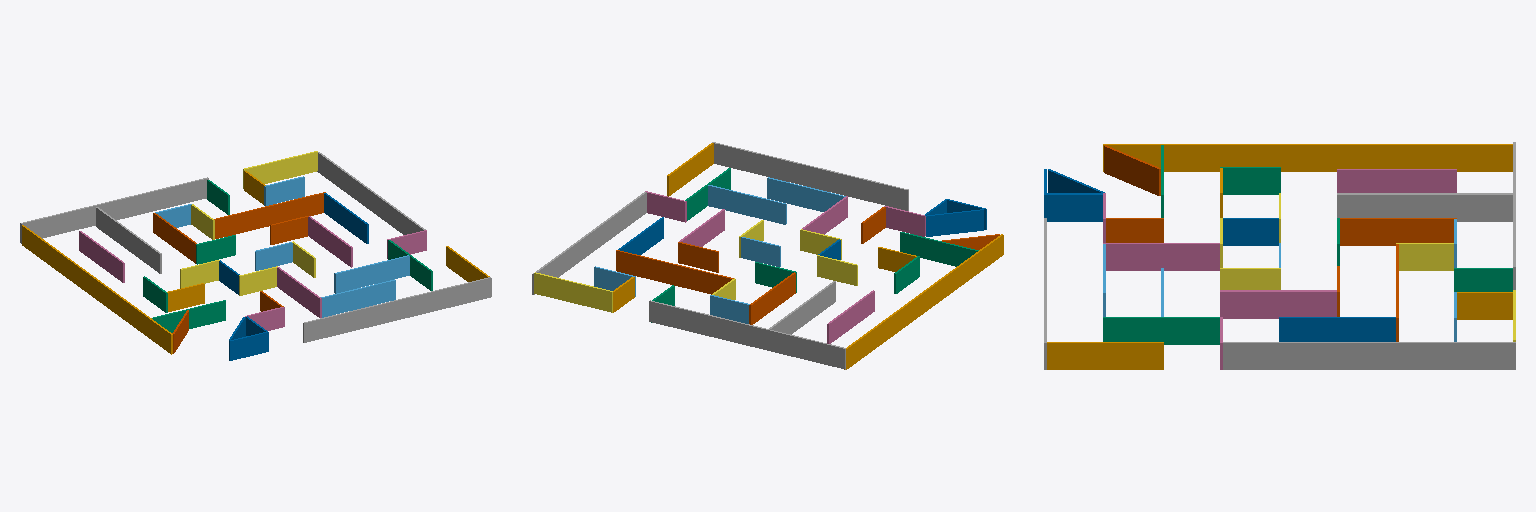
--- Facts derived from the render (not from the file) ---
Views: 3 orthographic renders of the robot side by side, from view 1: azimuth 30°, elevation 25°; view 2: azimuth 150°, elevation 25°; view 3: azimuth 270°, elevation 25°.
Model laberinto with 39 links and 38 joints (38 fixed), rooted at base_link, posed all joints at 0.
Links seen in each view (by area): view 1: L5_C_v11, L5_C_v1_11, L7_B_v11, L3_B_v11, L5_B_v11, L2_B_v1_21, L2_B_v1_41, L3_B_v1_11, L2_B_v1_31, L2_B_v1_71, L2_C_v11, L2_B_v1_51 (+17 smaller); view 2: L5_C_v1_11, L5_C_v11, L7_B_v11, L3_B_v11, L5_B_v11, L2_B_v1_31, L2_B_v1_21, L2_B_v1_41, L2_B_v1_71, L3_B_v1_11, D1_v11, L2_C_v11 (+18 smaller); view 3: L7_B_v11, L5_B_v11, L3_B_v1_11, L2_B_v11, L2_B_v1_91, L2_B_v1_61, L2_B_v1_11, L2_B_v1_81, L2_B_v1_51, L2_C_v11, L1_B_v1_71, D1_v1_11 (+8 smaller).
Boxes of the visible links, x1,y1,x2,y2 form: L5_C_v11: (303,277,491,342); L5_C_v1_11: (20,177,208,243); L7_B_v11: (22,225,172,354); L3_B_v11: (214,192,325,238); L5_B_v11: (317,152,425,234); L2_B_v1_21: (334,255,409,293); L2_B_v1_41: (321,279,395,317); L3_B_v1_11: (96,207,161,273); L2_B_v1_31: (243,151,317,188); L2_B_v1_71: (152,300,225,332); L2_C_v11: (79,231,124,282); L2_B_v1_51: (324,193,368,243); L5_C_v1_11: (649,300,845,369); L5_C_v11: (712,142,908,210); L7_B_v11: (844,234,1003,369); L3_B_v11: (616,250,733,294); L5_B_v11: (532,192,646,294); L2_B_v1_31: (534,272,612,312); L2_B_v1_21: (708,185,786,224); L2_B_v1_41: (767,177,845,211); L2_B_v1_71: (900,232,978,266); L3_B_v1_11: (769,281,835,334); D1_v11: (926,209,983,236); L2_C_v11: (827,290,874,343); L7_B_v11: (1103,144,1512,171); L5_B_v11: (1223,342,1515,369); L3_B_v1_11: (1337,193,1512,221); L2_B_v11: (1047,342,1163,369); L2_B_v1_91: (1220,290,1336,318); L2_B_v1_61: (1103,243,1219,270); L2_B_v1_11: (1103,317,1219,344); L2_B_v1_81: (1340,218,1456,245); L2_B_v1_51: (1279,317,1395,341); L2_C_v11: (1337,169,1456,192); L1_B_v1_71: (1044,193,1102,221); D1_v1_11: (1104,145,1160,195).
Size in the robot's own frame: 2.38 by 2.38 by 0.16 metres.
38 mesh visuals loaded from 38 distinct referenced files (38 binary STL).

robot.urdf — laberinto:
<?xml version="1.0" ?>
<robot name="laberinto">

<material name="silver">
  <color rgba="0.700 0.700 0.700 1.000"/>
</material>

<link name="base_link">
  <inertial>
    <origin xyz="-1.187487153647223 -1.1884224135909947 0.007407262245652047" rpy="0 0 0"/>
    <mass value="41.33268002916512"/>
    <inertia ixx="20.35586013176618" iyy="20.364008264724923" izz="40.71830635493643" ixy="-0.013845567582329465" iyz="9.885026799605345e-05" ixz="-1.3766768260925488e-06"/>
  </inertial>
</link>

<link name="L2_B_v1_41">
  <inertial>
    <origin xyz="-5.551115123125783e-16 -0.00749999999999984 0.07499999999999993" rpy="0 0 0"/>
    <mass value="0.6372"/>
    <inertia ixx="0.0012066974999997981" iyy="0.019678860000000187" izz="0.018496057500000163" ixy="-2.220446049250313e-16" iyz="2.7755575615628914e-17" ixz="-6.938893903907228e-18"/>
  </inertial>
  <visual>
    <origin xyz="0.885 2.065 -0.005" rpy="0 0 0"/>
    <geometry>
      <mesh filename="meshes/L2_B_v1_41.stl" scale="0.001 0.001 0.001"/>
    </geometry>
    <material name="silver"/>
    <material/>
  </visual>
  <collision>
    <origin xyz="0.885 2.065 -0.005" rpy="0 0 0"/>
    <geometry>
      <mesh filename="meshes/L2_B_v1_41.stl" scale="0.001 0.001 0.001"/>
    </geometry>
  </collision>
</link>

<link name="L2_B_v1_71">
  <inertial>
    <origin xyz="4.440892098500626e-16 -0.007500000000000062 0.07499999999999986" rpy="0 0 0"/>
    <mass value="0.6372"/>
    <inertia ixx="0.0012066974999997981" iyy="0.019678860000001297" izz="0.01849605750000105" ixy="-4.440892098500626e-16" iyz="-1.3877787807814457e-17" ixz="4.163336342344337e-17"/>
  </inertial>
  <visual>
    <origin xyz="2.065 1.77 -0.005" rpy="0 0 0"/>
    <geometry>
      <mesh filename="meshes/L2_B_v1_71.stl" scale="0.001 0.001 0.001"/>
    </geometry>
    <material name="silver"/>
    <material/>
  </visual>
  <collision>
    <origin xyz="2.065 1.77 -0.005" rpy="0 0 0"/>
    <geometry>
      <mesh filename="meshes/L2_B_v1_71.stl" scale="0.001 0.001 0.001"/>
    </geometry>
  </collision>
</link>

<link name="L1_C_v11">
  <inertial>
    <origin xyz="-0.007499999999999951 0.0 0.075" rpy="0 0 0"/>
    <mass value="0.3347999999999999"/>
    <inertia ixx="0.003308940000000038" iyy="0.0006340275000000783" izz="0.0026874674999999293" ixy="-5.551115123125783e-17" iyz="0.0" ixz="-3.469446951953614e-18"/>
  </inertial>
  <visual>
    <origin xyz="0.885 1.335 -0.005" rpy="0 0 0"/>
    <geometry>
      <mesh filename="meshes/L1_C_v11.stl" scale="0.001 0.001 0.001"/>
    </geometry>
    <material name="silver"/>
    <material/>
  </visual>
  <collision>
    <origin xyz="0.885 1.335 -0.005" rpy="0 0 0"/>
    <geometry>
      <mesh filename="meshes/L1_C_v11.stl" scale="0.001 0.001 0.001"/>
    </geometry>
  </collision>
</link>

<link name="L1_B_v1_71">
  <inertial>
    <origin xyz="-0.007500000000000062 4.440892098500626e-16 0.075" rpy="0 0 0"/>
    <mass value="0.31859999999999994"/>
    <inertia ixx="0.002907888750000698" iyy="0.000603348749999677" izz="0.0023164875000007967" ixy="-4.440892098500626e-16" iyz="1.3877787807814457e-17" ixz="-6.938893903907228e-18"/>
  </inertial>
  <visual>
    <origin xyz="1.77 2.2275 -0.005" rpy="0 0 0"/>
    <geometry>
      <mesh filename="meshes/L1_B_v1_71.stl" scale="0.001 0.001 0.001"/>
    </geometry>
    <material name="silver"/>
    <material/>
  </visual>
  <collision>
    <origin xyz="1.77 2.2275 -0.005" rpy="0 0 0"/>
    <geometry>
      <mesh filename="meshes/L1_B_v1_71.stl" scale="0.001 0.001 0.001"/>
    </geometry>
  </collision>
</link>

<link name="L3_B_v11">
  <inertial>
    <origin xyz="0.0 -0.007500000000000062 0.07499999999999687" rpy="0 0 0"/>
    <mass value="0.9557999999999999"/>
    <inertia ixx="0.0018100462499999748" iyy="0.06417599624999981" izz="0.06240179250000033" ixy="5.551115123125783e-17" iyz="-6.938893903907228e-18" ixz="-2.0816681711721685e-17"/>
  </inertial>
  <visual>
    <origin xyz="0.7375 0.59 -0.005" rpy="0 0 0"/>
    <geometry>
      <mesh filename="meshes/L3_B_v11.stl" scale="0.001 0.001 0.001"/>
    </geometry>
    <material name="silver"/>
    <material/>
  </visual>
  <collision>
    <origin xyz="0.7375 0.59 -0.005" rpy="0 0 0"/>
    <geometry>
      <mesh filename="meshes/L3_B_v11.stl" scale="0.001 0.001 0.001"/>
    </geometry>
  </collision>
</link>

<link name="L2_C_v11">
  <inertial>
    <origin xyz="0.0 0.0 0.075" rpy="0 0 0"/>
    <mass value="0.6534"/>
    <inertia ixx="0.021155186249999985" iyy="0.0012373762500006436" izz="0.019942312500000448" ixy="0.0" iyz="0.0" ixz="1.3877787807814457e-17"/>
  </inertial>
  <visual>
    <origin xyz="2.0725 0.5975 -0.005" rpy="0 0 0"/>
    <geometry>
      <mesh filename="meshes/L2_C_v11.stl" scale="0.001 0.001 0.001"/>
    </geometry>
    <material name="silver"/>
    <material/>
  </visual>
  <collision>
    <origin xyz="2.0725 0.5975 -0.005" rpy="0 0 0"/>
    <geometry>
      <mesh filename="meshes/L2_C_v11.stl" scale="0.001 0.001 0.001"/>
    </geometry>
  </collision>
</link>

<link name="L5_C_v11">
  <inertial>
    <origin xyz="0.007499999999999951 1.3322676295501878e-15 0.07499999999999989" rpy="0 0 0"/>
    <mass value="1.6092"/>
    <inertia ixx="0.0030474224999998967" iyy="0.30073266000000565" izz="0.29774558250000105" ixy="0.0" iyz="0.0" ixz="0.0"/>
  </inertial>
  <visual>
    <origin xyz="0.7525 2.3675 -0.005" rpy="0 0 0"/>
    <geometry>
      <mesh filename="meshes/L5_C_v11.stl" scale="0.001 0.001 0.001"/>
    </geometry>
    <material name="silver"/>
    <material/>
  </visual>
  <collision>
    <origin xyz="0.7525 2.3675 -0.005" rpy="0 0 0"/>
    <geometry>
      <mesh filename="meshes/L5_C_v11.stl" scale="0.001 0.001 0.001"/>
    </geometry>
  </collision>
</link>

<link name="L2_B_v11">
  <inertial>
    <origin xyz="-1.1709383462843448e-16 0.007500000000000284 0.075" rpy="0 0 0"/>
    <mass value="0.6372"/>
    <inertia ixx="0.019678860000001297" iyy="0.001206697499999996" izz="0.01849605750000105" ixy="2.5153490401663703e-16" iyz="1.3877787807814457e-17" ixz="1.0842021724855044e-19"/>
  </inertial>
  <visual>
    <origin xyz="0.0075 2.0725 -0.005" rpy="0 0 0"/>
    <geometry>
      <mesh filename="meshes/L2_B_v11.stl" scale="0.001 0.001 0.001"/>
    </geometry>
    <material name="silver"/>
    <material/>
  </visual>
  <collision>
    <origin xyz="0.0075 2.0725 -0.005" rpy="0 0 0"/>
    <geometry>
      <mesh filename="meshes/L2_B_v11.stl" scale="0.001 0.001 0.001"/>
    </geometry>
  </collision>
</link>

<link name="L2_B_v1_21">
  <inertial>
    <origin xyz="-1.7763568394002505e-15 0.0 0.07499999999999986" rpy="0 0 0"/>
    <mass value="0.6372"/>
    <inertia ixx="0.0012066974999997981" iyy="0.01967886000000016" izz="0.01849605749999972" ixy="1.1102230246251565e-16" iyz="-1.3877787807814457e-17" ixz="1.0408340855860843e-17"/>
  </inertial>
  <visual>
    <origin xyz="0.605 1.7775 -0.005" rpy="0 0 0"/>
    <geometry>
      <mesh filename="meshes/L2_B_v1_21.stl" scale="0.001 0.001 0.001"/>
    </geometry>
    <material name="silver"/>
    <material/>
  </visual>
  <collision>
    <origin xyz="0.605 1.7775 -0.005" rpy="0 0 0"/>
    <geometry>
      <mesh filename="meshes/L2_B_v1_21.stl" scale="0.001 0.001 0.001"/>
    </geometry>
  </collision>
</link>

<link name="L2_B_v1_11">
  <inertial>
    <origin xyz="-5.551115123125783e-17 -0.01399999999999979 0.075" rpy="0 0 0"/>
    <mass value="0.6372"/>
    <inertia ixx="0.01967885999999952" iyy="0.0012066974999999786" izz="0.018496057499999274" ixy="1.1102230246251565e-16" iyz="-1.3877787807814457e-17" ixz="0.0"/>
  </inertial>
  <visual>
    <origin xyz="0.3025 1.77 -0.005" rpy="0 0 0"/>
    <geometry>
      <mesh filename="meshes/L2_B_v1_11.stl" scale="0.001 0.001 0.001"/>
    </geometry>
    <material name="silver"/>
    <material/>
  </visual>
  <collision>
    <origin xyz="0.3025 1.77 -0.005" rpy="0 0 0"/>
    <geometry>
      <mesh filename="meshes/L2_B_v1_11.stl" scale="0.001 0.001 0.001"/>
    </geometry>
  </collision>
</link>

<link name="L2_B_v1_31">
  <inertial>
    <origin xyz="-0.007500000000000007 0.0 0.075" rpy="0 0 0"/>
    <mass value="0.6372"/>
    <inertia ixx="0.0012066975000000002" iyy="0.019678859999999992" izz="0.018496057500000003" ixy="0.0" iyz="5.421010862427522e-20" ixz="3.469446951953614e-18"/>
  </inertial>
  <visual>
    <origin xyz="0.3025 0.0075 -0.015" rpy="0 0 0"/>
    <geometry>
      <mesh filename="meshes/L2_B_v1_31.stl" scale="0.001 0.001 0.001"/>
    </geometry>
    <material name="silver"/>
    <material/>
  </visual>
  <collision>
    <origin xyz="0.3025 0.0075 -0.015" rpy="0 0 0"/>
    <geometry>
      <mesh filename="meshes/L2_B_v1_31.stl" scale="0.001 0.001 0.001"/>
    </geometry>
  </collision>
</link>

<link name="L2_B_v1_51">
  <inertial>
    <origin xyz="-5.551115123125783e-17 -0.007500000000000062 0.075" rpy="0 0 0"/>
    <mass value="0.6372"/>
    <inertia ixx="0.019678859999999965" iyy="0.0012066974999999924" izz="0.01849605749999994" ixy="5.551115123125783e-17" iyz="-6.938893903907228e-18" ixz="-3.469446951953614e-18"/>
  </inertial>
  <visual>
    <origin xyz="0.3025 0.8925 -0.005" rpy="0 0 0"/>
    <geometry>
      <mesh filename="meshes/L2_B_v1_51.stl" scale="0.001 0.001 0.001"/>
    </geometry>
    <material name="silver"/>
    <material/>
  </visual>
  <collision>
    <origin xyz="0.3025 0.8925 -0.005" rpy="0 0 0"/>
    <geometry>
      <mesh filename="meshes/L2_B_v1_51.stl" scale="0.001 0.001 0.001"/>
    </geometry>
  </collision>
</link>

<link name="L2_B_v1_81">
  <inertial>
    <origin xyz="0.0 0.007500000000000062 0.075" rpy="0 0 0"/>
    <mass value="0.6372"/>
    <inertia ixx="0.019678859999999965" iyy="0.0012066975000000202" izz="0.018496057500000163" ixy="-1.1102230246251565e-16" iyz="-6.938893903907228e-18" ixz="0.0"/>
  </inertial>
  <visual>
    <origin xyz="1.4825 0.5975 -0.005" rpy="0 0 0"/>
    <geometry>
      <mesh filename="meshes/L2_B_v1_81.stl" scale="0.001 0.001 0.001"/>
    </geometry>
    <material name="silver"/>
    <material/>
  </visual>
  <collision>
    <origin xyz="1.4825 0.5975 -0.005" rpy="0 0 0"/>
    <geometry>
      <mesh filename="meshes/L2_B_v1_81.stl" scale="0.001 0.001 0.001"/>
    </geometry>
  </collision>
</link>

<link name="L2_B_v1_91">
  <inertial>
    <origin xyz="0.0 0.0 0.08499999999999999" rpy="0 0 0"/>
    <mass value="0.6372"/>
    <inertia ixx="0.019678859999999965" iyy="0.0012066974999999924" izz="0.01849605749999994" ixy="-5.551115123125783e-17" iyz="0.0" ixz="0.0"/>
  </inertial>
  <visual>
    <origin xyz="0.5975 1.195 -0.005" rpy="0 0 0"/>
    <geometry>
      <mesh filename="meshes/L2_B_v1_91.stl" scale="0.001 0.001 0.001"/>
    </geometry>
    <material name="silver"/>
    <material/>
  </visual>
  <collision>
    <origin xyz="0.5975 1.195 -0.005" rpy="0 0 0"/>
    <geometry>
      <mesh filename="meshes/L2_B_v1_91.stl" scale="0.001 0.001 0.001"/>
    </geometry>
  </collision>
</link>

<link name="L5_C_v1_11">
  <inertial>
    <origin xyz="0.0 -1.734723475976807e-18 0.075" rpy="0 0 0"/>
    <mass value="1.6092"/>
    <inertia ixx="0.003047422499999999" iyy="0.30073266000000043" izz="0.29774558250000016" ixy="-3.469446951953614e-18" iyz="-4.336808689942018e-19" ixz="-2.7755575615628914e-17"/>
  </inertial>
  <visual>
    <origin xyz="1.63 0.0075 -0.015" rpy="0 0 0"/>
    <geometry>
      <mesh filename="meshes/L5_C_v1_11.stl" scale="0.001 0.001 0.001"/>
    </geometry>
    <material name="silver"/>
    <material/>
  </visual>
  <collision>
    <origin xyz="1.63 0.0075 -0.015" rpy="0 0 0"/>
    <geometry>
      <mesh filename="meshes/L5_C_v1_11.stl" scale="0.001 0.001 0.001"/>
    </geometry>
  </collision>
</link>

<link name="L1_B_v1_41">
  <inertial>
    <origin xyz="0.0 0.0 0.07500000000000029" rpy="0 0 0"/>
    <mass value="0.31859999999999994"/>
    <inertia ixx="0.0006033487500000101" iyy="0.0029078887499998096" izz="0.0023164875000001306" ixy="1.1102230246251565e-16" iyz="0.0" ixz="0.0"/>
  </inertial>
  <visual>
    <origin xyz="1.9175 1.4825 -0.015" rpy="0 0 0"/>
    <geometry>
      <mesh filename="meshes/L1_B_v1_41.stl" scale="0.001 0.001 0.001"/>
    </geometry>
    <material name="silver"/>
    <material/>
  </visual>
  <collision>
    <origin xyz="1.9175 1.4825 -0.015" rpy="0 0 0"/>
    <geometry>
      <mesh filename="meshes/L1_B_v1_41.stl" scale="0.001 0.001 0.001"/>
    </geometry>
  </collision>
</link>

<link name="L1_B_v11">
  <inertial>
    <origin xyz="0.0 0.0 0.07500000000000055" rpy="0 0 0"/>
    <mass value="0.31859999999999994"/>
    <inertia ixx="0.0006033487499998991" iyy="0.002907888749999865" izz="0.0023164875000000196" ixy="1.1102230246251565e-16" iyz="0.0" ixz="-3.469446951953614e-18"/>
  </inertial>
  <visual>
    <origin xyz="1.0475 1.1875 -0.005" rpy="0 0 0"/>
    <geometry>
      <mesh filename="meshes/L1_B_v11.stl" scale="0.001 0.001 0.001"/>
    </geometry>
    <material name="silver"/>
    <material/>
  </visual>
  <collision>
    <origin xyz="1.0475 1.1875 -0.005" rpy="0 0 0"/>
    <geometry>
      <mesh filename="meshes/L1_B_v11.stl" scale="0.001 0.001 0.001"/>
    </geometry>
  </collision>
</link>

<link name="L1_C_v1_11">
  <inertial>
    <origin xyz="0.0 0.0 0.075" rpy="0 0 0"/>
    <mass value="0.3347999999999999"/>
    <inertia ixx="0.003308940000000038" iyy="0.0006340275000003004" izz="0.0026874674999999293" ixy="-2.220446049250313e-16" iyz="6.938893903907228e-18" ixz="1.3877787807814457e-17"/>
  </inertial>
  <visual>
    <origin xyz="2.0725 1.335 -0.015" rpy="0 0 0"/>
    <geometry>
      <mesh filename="meshes/L1_C_v1_11.stl" scale="0.001 0.001 0.001"/>
    </geometry>
    <material name="silver"/>
    <material/>
  </visual>
  <collision>
    <origin xyz="2.0725 1.335 -0.015" rpy="0 0 0"/>
    <geometry>
      <mesh filename="meshes/L1_C_v1_11.stl" scale="0.001 0.001 0.001"/>
    </geometry>
  </collision>
</link>

<link name="L1_C_v1_31">
  <inertial>
    <origin xyz="0.007500000000000062 0.0 0.07500000000000007" rpy="0 0 0"/>
    <mass value="0.3347999999999999"/>
    <inertia ixx="0.0006340274999999673" iyy="0.003308940000000038" izz="0.0026874675000001513" ixy="-1.1102230246251565e-16" iyz="6.938893903907228e-18" ixz="0.0"/>
  </inertial>
  <visual>
    <origin xyz="1.3425 1.4825 -0.005" rpy="0 0 0"/>
    <geometry>
      <mesh filename="meshes/L1_C_v1_31.stl" scale="0.001 0.001 0.001"/>
    </geometry>
    <material name="silver"/>
    <material/>
  </visual>
  <collision>
    <origin xyz="1.3425 1.4825 -0.005" rpy="0 0 0"/>
    <geometry>
      <mesh filename="meshes/L1_C_v1_31.stl" scale="0.001 0.001 0.001"/>
    </geometry>
  </collision>
</link>

<link name="L1_A_v1_11">
  <inertial>
    <origin xyz="0.0 -0.007500000000000062 0.075" rpy="0 0 0"/>
    <mass value="0.30239999999999995"/>
    <inertia ixx="0.0025426800000000194" iyy="0.0005726699999999418" izz="0.001981350000000326" ixy="-1.1102230246251565e-16" iyz="-6.938893903907228e-18" ixz="-6.938893903907228e-18"/>
  </inertial>
  <visual>
    <origin xyz="1.4825 1.3275 -0.005" rpy="0 0 0"/>
    <geometry>
      <mesh filename="meshes/L1_A_v1_11.stl" scale="0.001 0.001 0.001"/>
    </geometry>
    <material name="silver"/>
    <material/>
  </visual>
  <collision>
    <origin xyz="1.4825 1.3275 -0.005" rpy="0 0 0"/>
    <geometry>
      <mesh filename="meshes/L1_A_v1_11.stl" scale="0.001 0.001 0.001"/>
    </geometry>
  </collision>
</link>

<link name="L1_C_v1_21">
  <inertial>
    <origin xyz="0.0 0.0 0.07499999999999997" rpy="0 0 0"/>
    <mass value="0.3347999999999999"/>
    <inertia ixx="0.0006340275000000783" iyy="0.0033089399999999825" izz="0.0026874675000000403" ixy="0.0" iyz="-3.469446951953614e-18" ixz="0.0"/>
  </inertial>
  <visual>
    <origin xyz="0.745 0.8925 -0.015" rpy="0 0 0"/>
    <geometry>
      <mesh filename="meshes/L1_C_v1_21.stl" scale="0.001 0.001 0.001"/>
    </geometry>
    <material name="silver"/>
    <material/>
  </visual>
  <collision>
    <origin xyz="0.745 0.8925 -0.015" rpy="0 0 0"/>
    <geometry>
      <mesh filename="meshes/L1_C_v1_21.stl" scale="0.001 0.001 0.001"/>
    </geometry>
  </collision>
</link>

<link name="L1_C_v1_41">
  <inertial>
    <origin xyz="0.007499999999999979 0.0 0.07500000000000007" rpy="0 0 0"/>
    <mass value="0.3347999999999999"/>
    <inertia ixx="0.0006340274999999673" iyy="0.00330894000000001" izz="0.0026874675000001513" ixy="0.0" iyz="0.0" ixz="0.0"/>
  </inertial>
  <visual>
    <origin xyz="0.1625 1.4825 -0.005" rpy="0 0 0"/>
    <geometry>
      <mesh filename="meshes/L1_C_v1_41.stl" scale="0.001 0.001 0.001"/>
    </geometry>
    <material name="silver"/>
    <material/>
  </visual>
  <collision>
    <origin xyz="0.1625 1.4825 -0.005" rpy="0 0 0"/>
    <geometry>
      <mesh filename="meshes/L1_C_v1_41.stl" scale="0.001 0.001 0.001"/>
    </geometry>
  </collision>
</link>

<link name="L5_B_v11">
  <inertial>
    <origin xyz="1.734723475976807e-18 0.007499999999999951 0.075" rpy="0 0 0"/>
    <mass value="1.5929999999999997"/>
    <inertia ixx="0.29180109374999974" iyy="0.0030167437499999984" izz="0.2888440874999999" ixy="1.734723475976807e-18" iyz="-1.3877787807814457e-17" ixz="-1.0842021724855044e-19"/>
  </inertial>
  <visual>
    <origin xyz="0.0075 0.745 -0.005" rpy="0 0 0"/>
    <geometry>
      <mesh filename="meshes/L5_B_v11.stl" scale="0.001 0.001 0.001"/>
    </geometry>
    <material name="silver"/>
    <material/>
  </visual>
  <collision>
    <origin xyz="0.0075 0.745 -0.005" rpy="0 0 0"/>
    <geometry>
      <mesh filename="meshes/L5_B_v11.stl" scale="0.001 0.001 0.001"/>
    </geometry>
  </collision>
</link>

<link name="L1_A_v11">
  <inertial>
    <origin xyz="0.0 0.0 0.075" rpy="0 0 0"/>
    <mass value="0.30239999999999995"/>
    <inertia ixx="0.0025426799999999933" iyy="0.0005726699999999973" izz="0.0019813500000000067" ixy="0.0" iyz="8.673617379884035e-19" ixz="0.0"/>
  </inertial>
  <visual>
    <origin xyz="0.5975 0.155 -0.005" rpy="0 0 0"/>
    <geometry>
      <mesh filename="meshes/L1_A_v11.stl" scale="0.001 0.001 0.001"/>
    </geometry>
    <material name="silver"/>
    <material/>
  </visual>
  <collision>
    <origin xyz="0.5975 0.155 -0.005" rpy="0 0 0"/>
    <geometry>
      <mesh filename="meshes/L1_A_v11.stl" scale="0.001 0.001 0.001"/>
    </geometry>
  </collision>
</link>

<link name="L1_C_v1_51">
  <inertial>
    <origin xyz="0.0 0.0 0.075" rpy="0 0 0"/>
    <mass value="0.3347999999999999"/>
    <inertia ixx="0.0006340274999999951" iyy="0.00330894000000001" izz="0.002687467499999971" ixy="0.0" iyz="0.0" ixz="-1.734723475976807e-18"/>
  </inertial>
  <visual>
    <origin xyz="0.45 0.3025 -0.005" rpy="0 0 0"/>
    <geometry>
      <mesh filename="meshes/L1_C_v1_51.stl" scale="0.001 0.001 0.001"/>
    </geometry>
    <material name="silver"/>
    <material/>
  </visual>
  <collision>
    <origin xyz="0.45 0.3025 -0.005" rpy="0 0 0"/>
    <geometry>
      <mesh filename="meshes/L1_C_v1_51.stl" scale="0.001 0.001 0.001"/>
    </geometry>
  </collision>
</link>

<link name="L1_C_v1_61">
  <inertial>
    <origin xyz="-0.007500000000000062 0.0 0.075" rpy="0 0 0"/>
    <mass value="0.3347999999999999"/>
    <inertia ixx="0.0006340275000000783" iyy="0.003308940000000038" izz="0.0026874674999999293" ixy="-5.551115123125783e-17" iyz="-3.469446951953614e-18" ixz="0.0"/>
  </inertial>
  <visual>
    <origin xyz="1.3275 0.8925 -0.005" rpy="0 0 0"/>
    <geometry>
      <mesh filename="meshes/L1_C_v1_61.stl" scale="0.001 0.001 0.001"/>
    </geometry>
    <material name="silver"/>
    <material/>
  </visual>
  <collision>
    <origin xyz="1.3275 0.8925 -0.005" rpy="0 0 0"/>
    <geometry>
      <mesh filename="meshes/L1_C_v1_61.stl" scale="0.001 0.001 0.001"/>
    </geometry>
  </collision>
</link>

<link name="L1_C_v1_71">
  <inertial>
    <origin xyz="0.0 0.0 0.075" rpy="0 0 0"/>
    <mass value="0.3347999999999999"/>
    <inertia ixx="0.0006340275000000783" iyy="0.003308939999999816" izz="0.0026874674999999293" ixy="0.0" iyz="-6.938893903907228e-18" ixz="0.0"/>
  </inertial>
  <visual>
    <origin xyz="1.63 1.1875 -0.005" rpy="0 0 0"/>
    <geometry>
      <mesh filename="meshes/L1_C_v1_71.stl" scale="0.001 0.001 0.001"/>
    </geometry>
    <material name="silver"/>
    <material/>
  </visual>
  <collision>
    <origin xyz="1.63 1.1875 -0.005" rpy="0 0 0"/>
    <geometry>
      <mesh filename="meshes/L1_C_v1_71.stl" scale="0.001 0.001 0.001"/>
    </geometry>
  </collision>
</link>

<link name="L1_B_v1_61">
  <inertial>
    <origin xyz="0.0 0.0 0.075" rpy="0 0 0"/>
    <mass value="0.31859999999999994"/>
    <inertia ixx="0.000603348749999677" iyy="0.0029078887499998096" izz="0.0023164874999999086" ixy="0.0" iyz="-1.3877787807814457e-17" ixz="-6.938893903907228e-18"/>
  </inertial>
  <visual>
    <origin xyz="1.9325 2.3675 -0.005" rpy="0 0 0"/>
    <geometry>
      <mesh filename="meshes/L1_B_v1_61.stl" scale="0.001 0.001 0.001"/>
    </geometry>
    <material name="silver"/>
    <material/>
  </visual>
  <collision>
    <origin xyz="1.9325 2.3675 -0.005" rpy="0 0 0"/>
    <geometry>
      <mesh filename="meshes/L1_B_v1_61.stl" scale="0.001 0.001 0.001"/>
    </geometry>
  </collision>
</link>

<link name="L1_B_v1_51">
  <inertial>
    <origin xyz="0.0 0.0 0.075" rpy="0 0 0"/>
    <mass value="0.31859999999999994"/>
    <inertia ixx="0.0029078887500000317" iyy="0.0006033487500001211" izz="0.0023164875000001306" ixy="-1.1102230246251565e-16" iyz="-6.938893903907228e-18" ixz="0.0"/>
  </inertial>
  <visual>
    <origin xyz="1.4825 1.9175 -0.005" rpy="0 0 0"/>
    <geometry>
      <mesh filename="meshes/L1_B_v1_51.stl" scale="0.001 0.001 0.001"/>
    </geometry>
    <material name="silver"/>
    <material/>
  </visual>
  <collision>
    <origin xyz="1.4825 1.9175 -0.005" rpy="0 0 0"/>
    <geometry>
      <mesh filename="meshes/L1_B_v1_51.stl" scale="0.001 0.001 0.001"/>
    </geometry>
  </collision>
</link>

<link name="L1_C_v1_81">
  <inertial>
    <origin xyz="0.007500000000000062 0.0 0.07499999999999996" rpy="0 0 0"/>
    <mass value="0.3347999999999999"/>
    <inertia ixx="0.0006340275000003004" iyy="0.003308939999999816" izz="0.0026874674999999293" ixy="-2.220446049250313e-16" iyz="6.938893903907228e-18" ixz="6.938893903907228e-18"/>
  </inertial>
  <visual>
    <origin xyz="1.6375 2.0725 -0.005" rpy="0 0 0"/>
    <geometry>
      <mesh filename="meshes/L1_C_v1_81.stl" scale="0.001 0.001 0.001"/>
    </geometry>
    <material name="silver"/>
    <material/>
  </visual>
  <collision>
    <origin xyz="1.6375 2.0725 -0.005" rpy="0 0 0"/>
    <geometry>
      <mesh filename="meshes/L1_C_v1_81.stl" scale="0.001 0.001 0.001"/>
    </geometry>
  </collision>
</link>

<link name="L3_B_v1_11">
  <inertial>
    <origin xyz="0.0 2.220446049250313e-16 0.075" rpy="0 0 0"/>
    <mass value="0.9557999999999999"/>
    <inertia ixx="0.06417599624999995" iyy="0.0018100462499996972" izz="0.06240179250000022" ixy="1.1102230246251565e-16" iyz="-6.938893903907228e-18" ixz="-2.7755575615628914e-17"/>
  </inertial>
  <visual>
    <origin xyz="1.7775 0.4575 -0.005" rpy="0 0 0"/>
    <geometry>
      <mesh filename="meshes/L3_B_v1_11.stl" scale="0.001 0.001 0.001"/>
    </geometry>
    <material name="silver"/>
    <material/>
  </visual>
  <collision>
    <origin xyz="1.7775 0.4575 -0.005" rpy="0 0 0"/>
    <geometry>
      <mesh filename="meshes/L3_B_v1_11.stl" scale="0.001 0.001 0.001"/>
    </geometry>
  </collision>
</link>

<link name="L7_B_v11">
  <inertial>
    <origin xyz="0.0 -0.007500000000000062 0.075" rpy="0 0 0"/>
    <mass value="2.2302"/>
    <inertia ixx="0.7966878412499985" iyy="0.004223441249996185" izz="0.7925480324999992" ixy="0.0" iyz="2.7755575615628914e-17" ixz="-5.551115123125783e-17"/>
  </inertial>
  <visual>
    <origin xyz="2.3675 1.04 -0.005" rpy="0 0 0"/>
    <geometry>
      <mesh filename="meshes/L7_B_v11.stl" scale="0.001 0.001 0.001"/>
    </geometry>
    <material name="silver"/>
    <material/>
  </visual>
  <collision>
    <origin xyz="2.3675 1.04 -0.005" rpy="0 0 0"/>
    <geometry>
      <mesh filename="meshes/L7_B_v11.stl" scale="0.001 0.001 0.001"/>
    </geometry>
  </collision>
</link>

<link name="L1_B_v1_11">
  <inertial>
    <origin xyz="0.007500000000000062 -5.551115123125783e-17 0.07500000000000001" rpy="0 0 0"/>
    <mass value="0.31859999999999994"/>
    <inertia ixx="0.0006033487499999997" iyy="0.0029078887500000317" izz="0.0023164875000001306" ixy="0.0" iyz="0.0" ixz="0.0"/>
  </inertial>
  <visual>
    <origin xyz="1.335 0.3025 -0.005" rpy="0 0 0"/>
    <geometry>
      <mesh filename="meshes/L1_B_v1_11.stl" scale="0.001 0.001 0.001"/>
    </geometry>
    <material name="silver"/>
    <material/>
  </visual>
  <collision>
    <origin xyz="1.335 0.3025 -0.005" rpy="0 0 0"/>
    <geometry>
      <mesh filename="meshes/L1_B_v1_11.stl" scale="0.001 0.001 0.001"/>
    </geometry>
  </collision>
</link>

<link name="L1_B_v1_21">
  <inertial>
    <origin xyz="0.0 -0.007500000000000007 0.07499999999999911" rpy="0 0 0"/>
    <mass value="0.31859999999999994"/>
    <inertia ixx="0.0029078887499999866" iyy="0.0006033487500000101" izz="0.002316487499999964" ixy="0.0" iyz="0.0" ixz="0.0"/>
  </inertial>
  <visual>
    <origin xyz="0.8925 0.155 -0.005" rpy="0 0 0"/>
    <geometry>
      <mesh filename="meshes/L1_B_v1_21.stl" scale="0.001 0.001 0.001"/>
    </geometry>
    <material name="silver"/>
    <material/>
  </visual>
  <collision>
    <origin xyz="0.8925 0.155 -0.005" rpy="0 0 0"/>
    <geometry>
      <mesh filename="meshes/L1_B_v1_21.stl" scale="0.001 0.001 0.001"/>
    </geometry>
  </collision>
</link>

<link name="L1_B_v1_31">
  <inertial>
    <origin xyz="0.0 -0.015000000000000013 0.07499999999999986" rpy="0 0 0"/>
    <mass value="0.31859999999999994"/>
    <inertia ixx="0.00290788874999999" iyy="0.0006033487500000101" izz="0.0023164874999999086" ixy="2.7755575615628914e-17" iyz="0.0" ixz="0.0"/>
  </inertial>
  <visual>
    <origin xyz="1.1875 0.4425 -0.005" rpy="0 0 0"/>
    <geometry>
      <mesh filename="meshes/L1_B_v1_31.stl" scale="0.001 0.001 0.001"/>
    </geometry>
    <material name="silver"/>
    <material/>
  </visual>
  <collision>
    <origin xyz="1.1875 0.4425 -0.005" rpy="0 0 0"/>
    <geometry>
      <mesh filename="meshes/L1_B_v1_31.stl" scale="0.001 0.001 0.001"/>
    </geometry>
  </collision>
</link>

<link name="D1_v11">
  <inertial>
    <origin xyz="-3.0085889912712105e-07 3.0085889912712105e-07 0.07500000000000001" rpy="0 0 0"/>
    <mass value="0.4266"/>
    <inertia ixx="0.003577218749999389" iyy="0.003577218749999833" izz="0.005554687499999655" ixy="-0.002769344999999923" iyz="1.3877787807814457e-17" ixz="1.3877787807814457e-17"/>
  </inertial>
  <visual>
    <origin xyz="1.930303 2.214697 -0.005" rpy="0 0 0"/>
    <geometry>
      <mesh filename="meshes/D1_v11.stl" scale="0.001 0.001 0.001"/>
    </geometry>
    <material name="silver"/>
    <material/>
  </visual>
  <collision>
    <origin xyz="1.930303 2.214697 -0.005" rpy="0 0 0"/>
    <geometry>
      <mesh filename="meshes/D1_v11.stl" scale="0.001 0.001 0.001"/>
    </geometry>
  </collision>
</link>

<link name="D1_v1_11">
  <inertial>
    <origin xyz="3.0085889912712105e-07 -3.0085889912712105e-07 0.07500000000000001" rpy="0 0 0"/>
    <mass value="0.4266"/>
    <inertia ixx="0.003577218749999833" iyy="0.003577218749999389" izz="0.005554687499999655" ixy="-0.002769344999999923" iyz="0.0" ixz="1.3877787807814457e-17"/>
  </inertial>
  <visual>
    <origin xyz="2.214697 1.930303 -0.005" rpy="0 0 0"/>
    <geometry>
      <mesh filename="meshes/D1_v1_11.stl" scale="0.001 0.001 0.001"/>
    </geometry>
    <material name="silver"/>
    <material/>
  </visual>
  <collision>
    <origin xyz="2.214697 1.930303 -0.005" rpy="0 0 0"/>
    <geometry>
      <mesh filename="meshes/D1_v1_11.stl" scale="0.001 0.001 0.001"/>
    </geometry>
  </collision>
</link>

<link name="L2_B_v1_61">
  <inertial>
    <origin xyz="-2.220446049250313e-16 -0.014999999999999902 0.075" rpy="0 0 0"/>
    <mass value="0.6372"/>
    <inertia ixx="0.01967886000000041" iyy="0.0012066974999997981" izz="0.01849605749999972" ixy="4.440892098500626e-16" iyz="0.0" ixz="-6.938893903907228e-18"/>
  </inertial>
  <visual>
    <origin xyz="1.1875 1.77 -0.005" rpy="0 0 0"/>
    <geometry>
      <mesh filename="meshes/L2_B_v1_61.stl" scale="0.001 0.001 0.001"/>
    </geometry>
    <material name="silver"/>
    <material/>
  </visual>
  <collision>
    <origin xyz="1.1875 1.77 -0.005" rpy="0 0 0"/>
    <geometry>
      <mesh filename="meshes/L2_B_v1_61.stl" scale="0.001 0.001 0.001"/>
    </geometry>
  </collision>
</link>

<joint name="Rigid_44" type="fixed">
  <origin xyz="-0.885 -2.065 0.005" rpy="0 0 0"/>
  <parent link="base_link"/>
  <child link="L2_B_v1_41"/>
</joint>

<joint name="Rigid_47" type="fixed">
  <origin xyz="-2.065 -1.77 0.005" rpy="0 0 0"/>
  <parent link="base_link"/>
  <child link="L2_B_v1_71"/>
</joint>

<joint name="Rigid_51" type="fixed">
  <origin xyz="-0.885 -1.335 0.005" rpy="0 0 0"/>
  <parent link="base_link"/>
  <child link="L1_C_v11"/>
</joint>

<joint name="Rigid_65" type="fixed">
  <origin xyz="-1.77 -2.2275 0.005" rpy="0 0 0"/>
  <parent link="base_link"/>
  <child link="L1_B_v1_71"/>
</joint>

<joint name="Rigid_69" type="fixed">
  <origin xyz="-0.7375 -0.59 0.005" rpy="0 0 0"/>
  <parent link="base_link"/>
  <child link="L3_B_v11"/>
</joint>

<joint name="Rigid_78" type="fixed">
  <origin xyz="-2.0725 -0.5975 0.005" rpy="0 0 0"/>
  <parent link="base_link"/>
  <child link="L2_C_v11"/>
</joint>

<joint name="Rigid_79" type="fixed">
  <origin xyz="-0.7525 -2.3675 0.005" rpy="0 0 0"/>
  <parent link="base_link"/>
  <child link="L5_C_v11"/>
</joint>

<joint name="Rigid_80" type="fixed">
  <origin xyz="-0.0075 -2.0725 0.005" rpy="0 0 0"/>
  <parent link="base_link"/>
  <child link="L2_B_v11"/>
</joint>

<joint name="Rigid_81" type="fixed">
  <origin xyz="-0.605 -1.7775 0.005" rpy="0 0 0"/>
  <parent link="base_link"/>
  <child link="L2_B_v1_21"/>
</joint>

<joint name="Rigid_82" type="fixed">
  <origin xyz="-0.3025 -1.77 0.005" rpy="0 0 0"/>
  <parent link="base_link"/>
  <child link="L2_B_v1_11"/>
</joint>

<joint name="Rigid_83" type="fixed">
  <origin xyz="-0.3025 -0.0075 0.015" rpy="0 0 0"/>
  <parent link="base_link"/>
  <child link="L2_B_v1_31"/>
</joint>

<joint name="Rigid_84" type="fixed">
  <origin xyz="-0.3025 -0.8925 0.005" rpy="0 0 0"/>
  <parent link="base_link"/>
  <child link="L2_B_v1_51"/>
</joint>

<joint name="Rigid_85" type="fixed">
  <origin xyz="-1.4825 -0.5975 0.005" rpy="0 0 0"/>
  <parent link="base_link"/>
  <child link="L2_B_v1_81"/>
</joint>

<joint name="Rigid_86" type="fixed">
  <origin xyz="-0.5975 -1.195 0.005" rpy="0 0 0"/>
  <parent link="base_link"/>
  <child link="L2_B_v1_91"/>
</joint>

<joint name="Rigid_87" type="fixed">
  <origin xyz="-1.63 -0.0075 0.015" rpy="0 0 0"/>
  <parent link="base_link"/>
  <child link="L5_C_v1_11"/>
</joint>

<joint name="Rigid_88" type="fixed">
  <origin xyz="-1.9175 -1.4825 0.015" rpy="0 0 0"/>
  <parent link="base_link"/>
  <child link="L1_B_v1_41"/>
</joint>

<joint name="Rigid_89" type="fixed">
  <origin xyz="-1.0475 -1.1875 0.005" rpy="0 0 0"/>
  <parent link="base_link"/>
  <child link="L1_B_v11"/>
</joint>

<joint name="Rigid_90" type="fixed">
  <origin xyz="-2.0725 -1.335 0.015" rpy="0 0 0"/>
  <parent link="base_link"/>
  <child link="L1_C_v1_11"/>
</joint>

<joint name="Rigid_91" type="fixed">
  <origin xyz="-1.3425 -1.4825 0.005" rpy="0 0 0"/>
  <parent link="base_link"/>
  <child link="L1_C_v1_31"/>
</joint>

<joint name="Rigid_92" type="fixed">
  <origin xyz="-1.4825 -1.3275 0.005" rpy="0 0 0"/>
  <parent link="base_link"/>
  <child link="L1_A_v1_11"/>
</joint>

<joint name="Rigid_93" type="fixed">
  <origin xyz="-0.745 -0.8925 0.015" rpy="0 0 0"/>
  <parent link="base_link"/>
  <child link="L1_C_v1_21"/>
</joint>

<joint name="Rigid_94" type="fixed">
  <origin xyz="-0.1625 -1.4825 0.005" rpy="0 0 0"/>
  <parent link="base_link"/>
  <child link="L1_C_v1_41"/>
</joint>

<joint name="Rigid_95" type="fixed">
  <origin xyz="-0.0075 -0.745 0.005" rpy="0 0 0"/>
  <parent link="base_link"/>
  <child link="L5_B_v11"/>
</joint>

<joint name="Rigid_96" type="fixed">
  <origin xyz="-0.5975 -0.155 0.005" rpy="0 0 0"/>
  <parent link="base_link"/>
  <child link="L1_A_v11"/>
</joint>

<joint name="Rigid_97" type="fixed">
  <origin xyz="-0.45 -0.3025 0.005" rpy="0 0 0"/>
  <parent link="base_link"/>
  <child link="L1_C_v1_51"/>
</joint>

<joint name="Rigid_98" type="fixed">
  <origin xyz="-1.3275 -0.8925 0.005" rpy="0 0 0"/>
  <parent link="base_link"/>
  <child link="L1_C_v1_61"/>
</joint>

<joint name="Rigid_99" type="fixed">
  <origin xyz="-1.63 -1.1875 0.005" rpy="0 0 0"/>
  <parent link="base_link"/>
  <child link="L1_C_v1_71"/>
</joint>

<joint name="Rigid_100" type="fixed">
  <origin xyz="-1.9325 -2.3675 0.005" rpy="0 0 0"/>
  <parent link="base_link"/>
  <child link="L1_B_v1_61"/>
</joint>

<joint name="Rigid_101" type="fixed">
  <origin xyz="-1.4825 -1.9175 0.005" rpy="0 0 0"/>
  <parent link="base_link"/>
  <child link="L1_B_v1_51"/>
</joint>

<joint name="Rigid_102" type="fixed">
  <origin xyz="-1.6375 -2.0725 0.005" rpy="0 0 0"/>
  <parent link="base_link"/>
  <child link="L1_C_v1_81"/>
</joint>

<joint name="Rigid_103" type="fixed">
  <origin xyz="-1.7775 -0.4575 0.005" rpy="0 0 0"/>
  <parent link="base_link"/>
  <child link="L3_B_v1_11"/>
</joint>

<joint name="Rigid_104" type="fixed">
  <origin xyz="-2.3675 -1.04 0.005" rpy="0 0 0"/>
  <parent link="base_link"/>
  <child link="L7_B_v11"/>
</joint>

<joint name="Rigid_105" type="fixed">
  <origin xyz="-1.335 -0.3025 0.005" rpy="0 0 0"/>
  <parent link="base_link"/>
  <child link="L1_B_v1_11"/>
</joint>

<joint name="Rigid_106" type="fixed">
  <origin xyz="-0.8925 -0.155 0.005" rpy="0 0 0"/>
  <parent link="base_link"/>
  <child link="L1_B_v1_21"/>
</joint>

<joint name="Rigid_107" type="fixed">
  <origin xyz="-1.1875 -0.4425 0.005" rpy="0 0 0"/>
  <parent link="base_link"/>
  <child link="L1_B_v1_31"/>
</joint>

<joint name="Rigid_108" type="fixed">
  <origin xyz="-1.930303 -2.214697 0.005" rpy="0 0 0"/>
  <parent link="base_link"/>
  <child link="D1_v11"/>
</joint>

<joint name="Rigid_109" type="fixed">
  <origin xyz="-2.214697 -1.930303 0.005" rpy="0 0 0"/>
  <parent link="base_link"/>
  <child link="D1_v1_11"/>
</joint>

<joint name="Rigid_110" type="fixed">
  <origin xyz="-1.1875 -1.77 0.005" rpy="0 0 0"/>
  <parent link="base_link"/>
  <child link="L2_B_v1_61"/>
</joint>

</robot>
